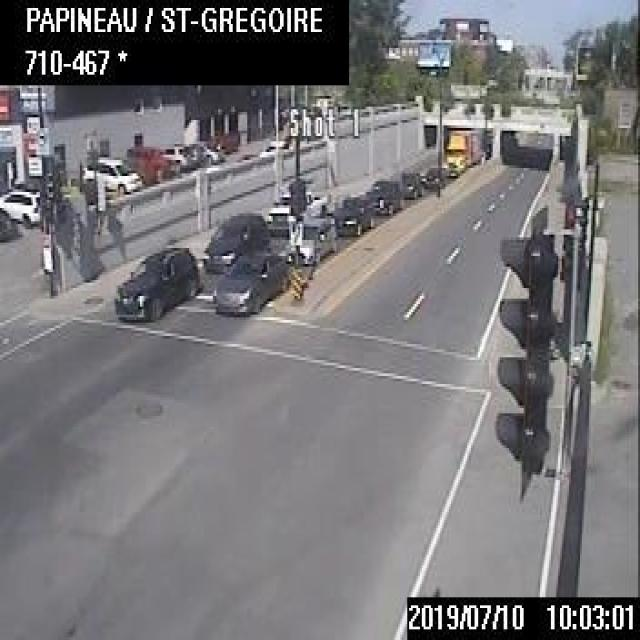vehicle: (113, 239, 200, 320), (208, 241, 292, 320), (199, 204, 267, 276), (262, 182, 327, 234), (80, 148, 141, 195), (442, 126, 488, 176), (332, 187, 374, 240), (284, 216, 335, 259), (121, 142, 172, 184), (0, 186, 40, 226), (363, 177, 404, 216), (158, 143, 194, 171), (396, 164, 422, 202), (419, 163, 446, 191)
